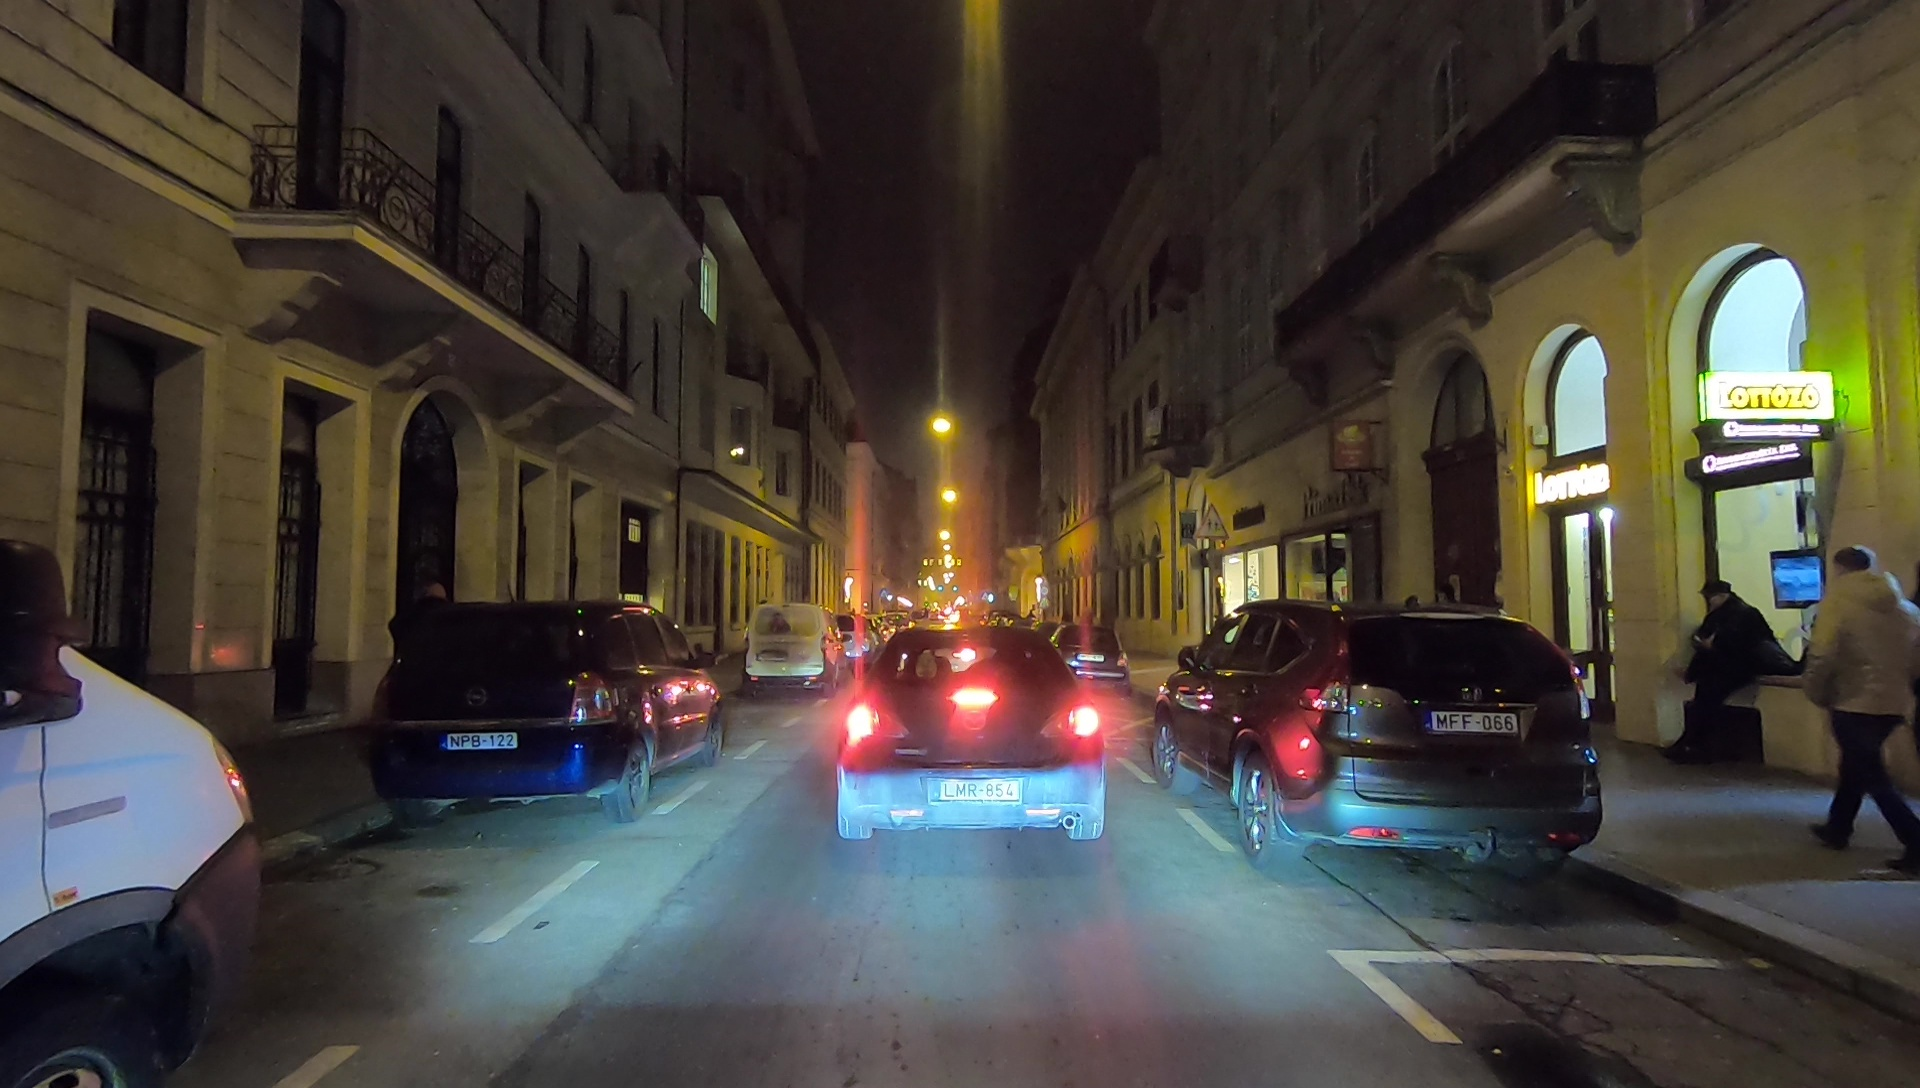person: (1808, 543, 1915, 873), (1680, 578, 1775, 778), (395, 584, 449, 686)
